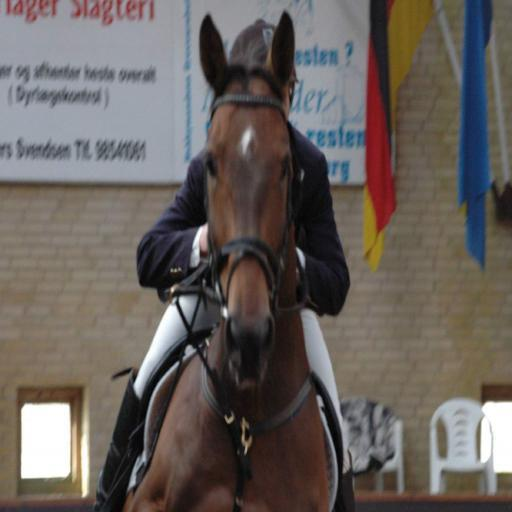Horse: (120, 11, 330, 511)
